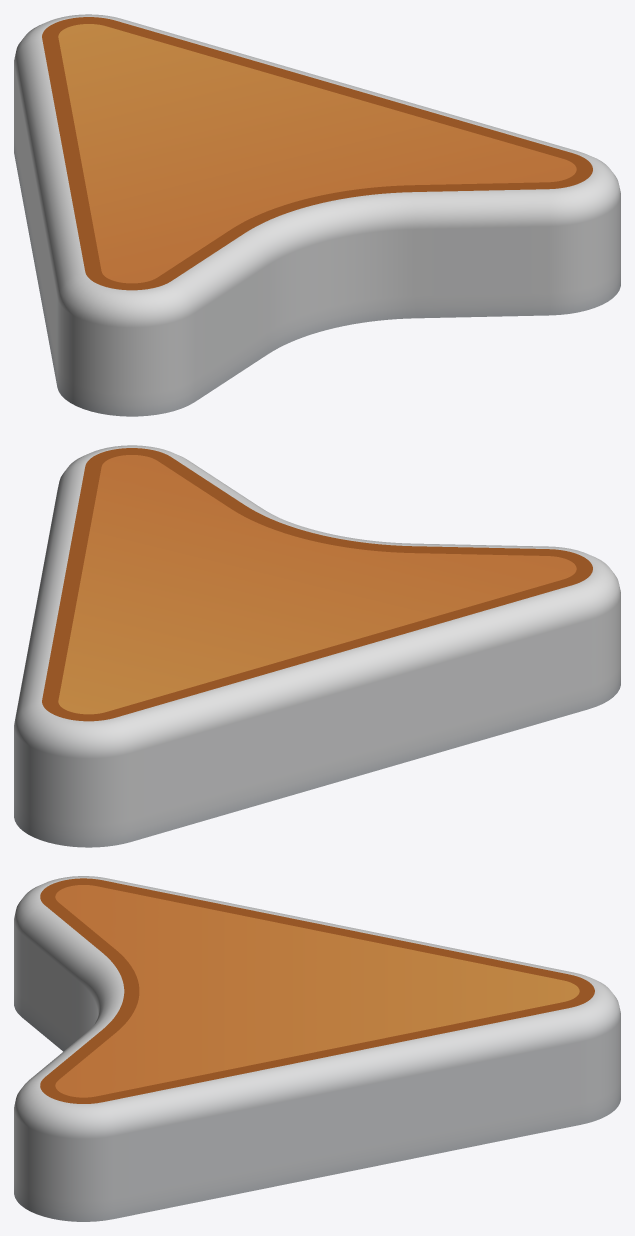
Rendered from location_puck.glb.
3 views of the same model, one above another, from view 1: azimuth 30°, elevation 25°; view 2: azimuth 150°, elevation 25°; view 3: azimuth 270°, elevation 25° (orthographic). The views are drawn at different scales.
Visible parts, largest first — view 1: location_puck; view 2: location_puck; view 3: location_puck.
Boxes of the visible parts, left/top/right/bottom form: location_puck: left=14, top=14, right=620, bottom=416; location_puck: left=14, top=445, right=620, bottom=847; location_puck: left=14, top=876, right=620, bottom=1221.
Size of the model in its own units: 0.9658 by 0.1942 by 1.
